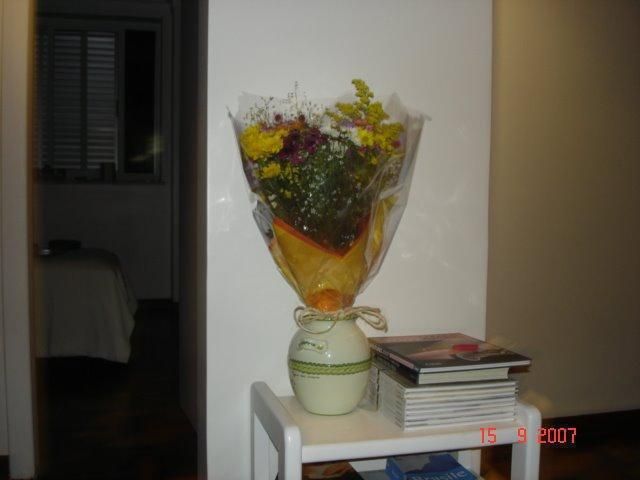Cama: (43, 253, 147, 371)
Matera: (244, 103, 386, 421)
Ventana: (41, 21, 160, 182)
